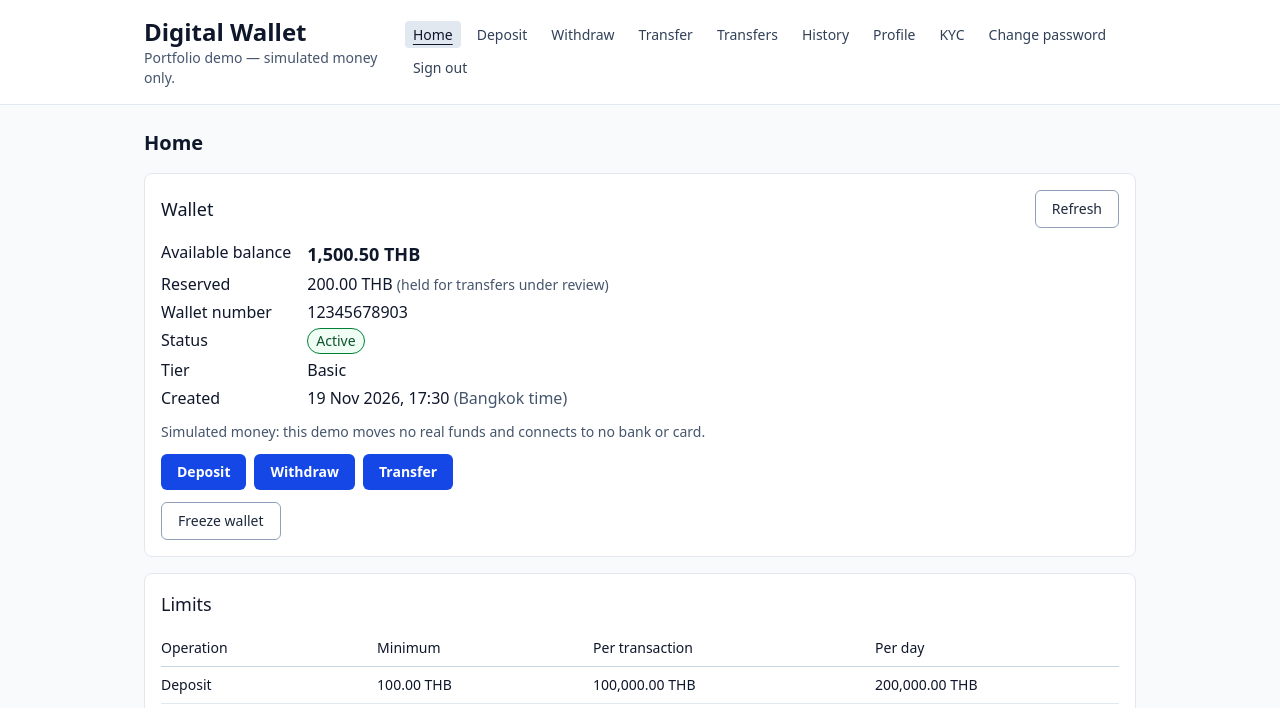
Test case: WalletDashboard › refreshes on the button and keeps the data when a refresh fails
Expected: the text "12345678903" is shown, [307,301,408,323]
Click the button "Refresh".
click(1077, 209)  # box [1035,190,1119,228]
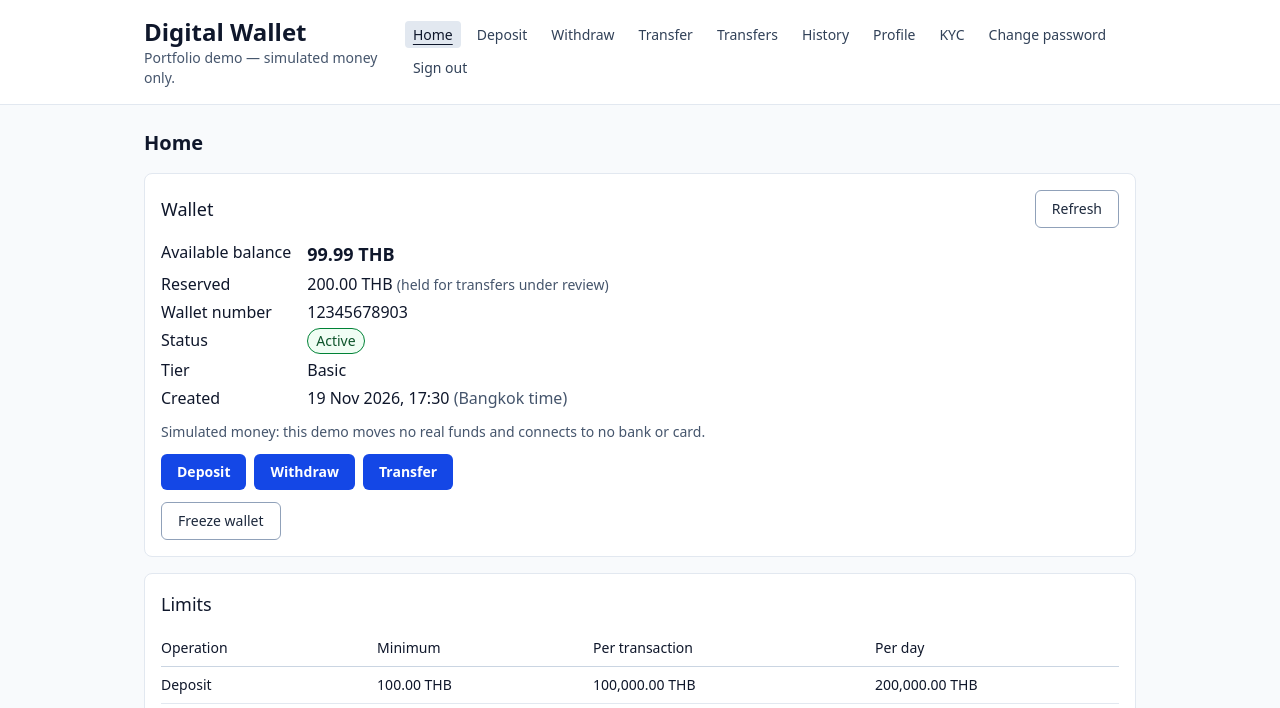
Expected: the text "99.99 THB" is shown, [307,242,394,266]
Click the button "Refresh".
click(1077, 209)  # box [1035,190,1119,228]
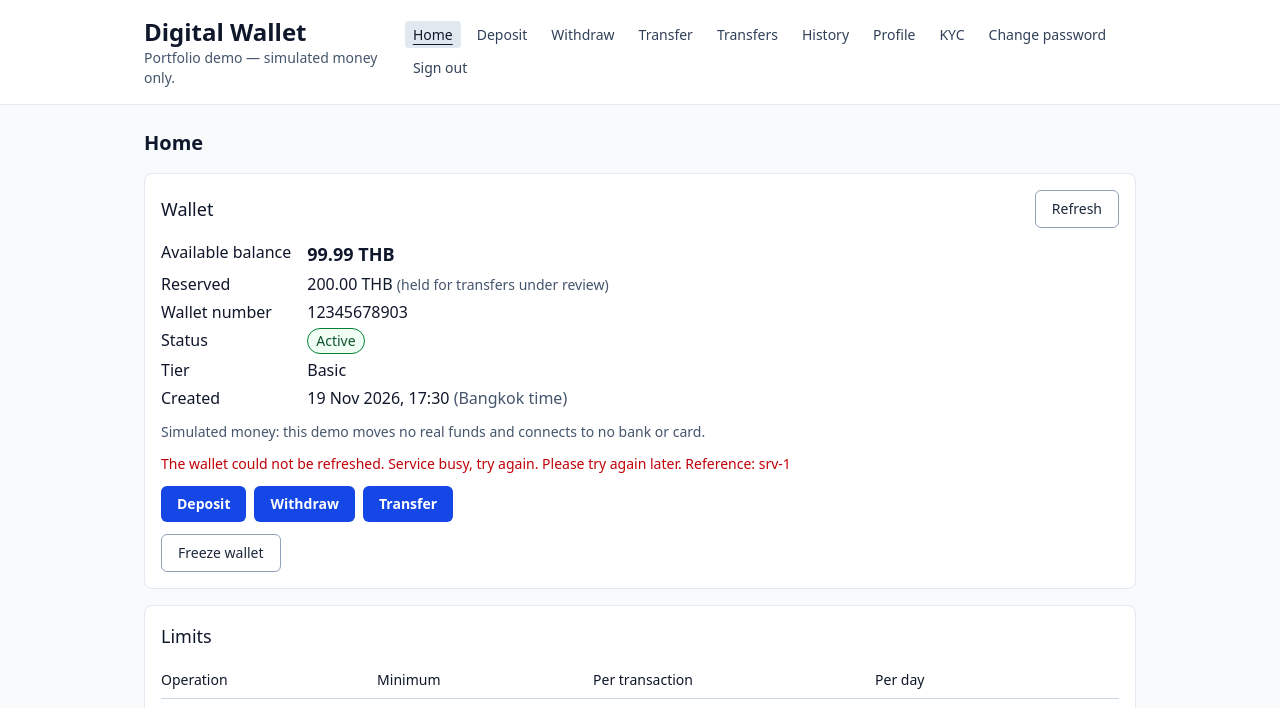
Expected: the text "99.99 THB" is shown, [307,242,394,266]
Expected: the text "The wallet could not be refreshed." shows "Reference: srv-1", [682,454,791,473]
